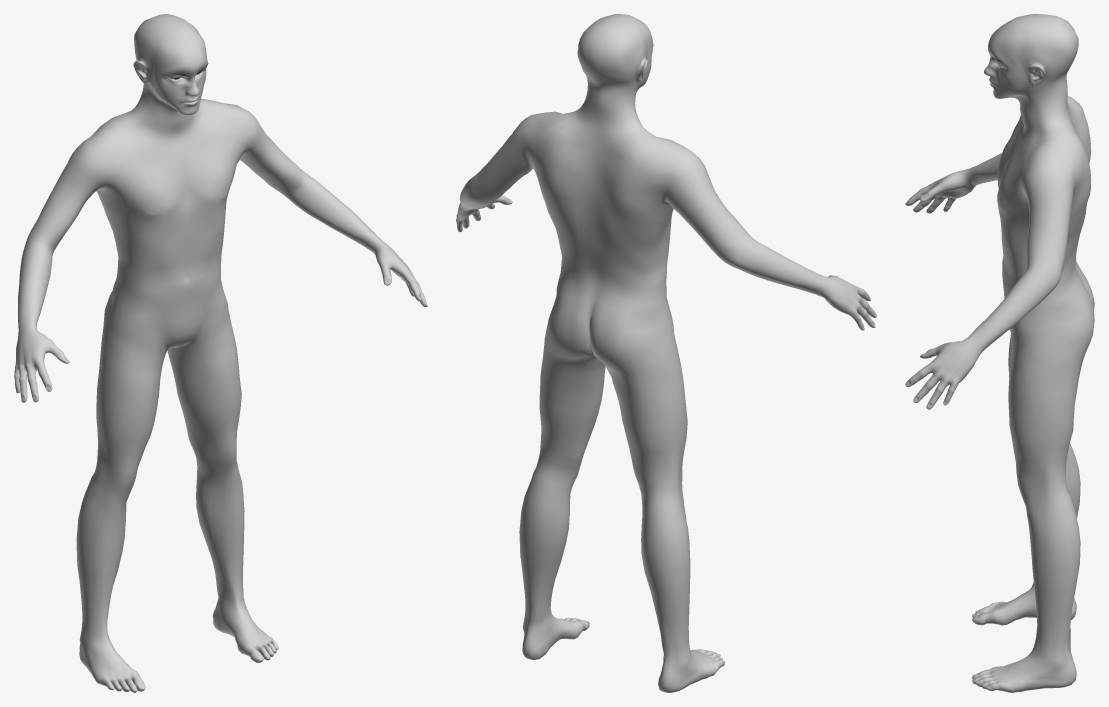
The model's file is head_base_v5_clay.glb.
3 views of the same model, side by side, from view 1: azimuth 30°, elevation 25°; view 2: azimuth 150°, elevation 25°; view 3: azimuth 270°, elevation 25° (orthographic).
Visible parts, largest first — view 1: body; view 2: body; view 3: body.
Part boxes in pixels (bbox=[...]): body: bbox=[14, 14, 427, 692]; body: bbox=[456, 14, 876, 692]; body: bbox=[905, 14, 1094, 692].
Bounding box in the file's own units: 1.11 × 1.67 × 0.4497.
Materials: 4 (3 with a texture image).
